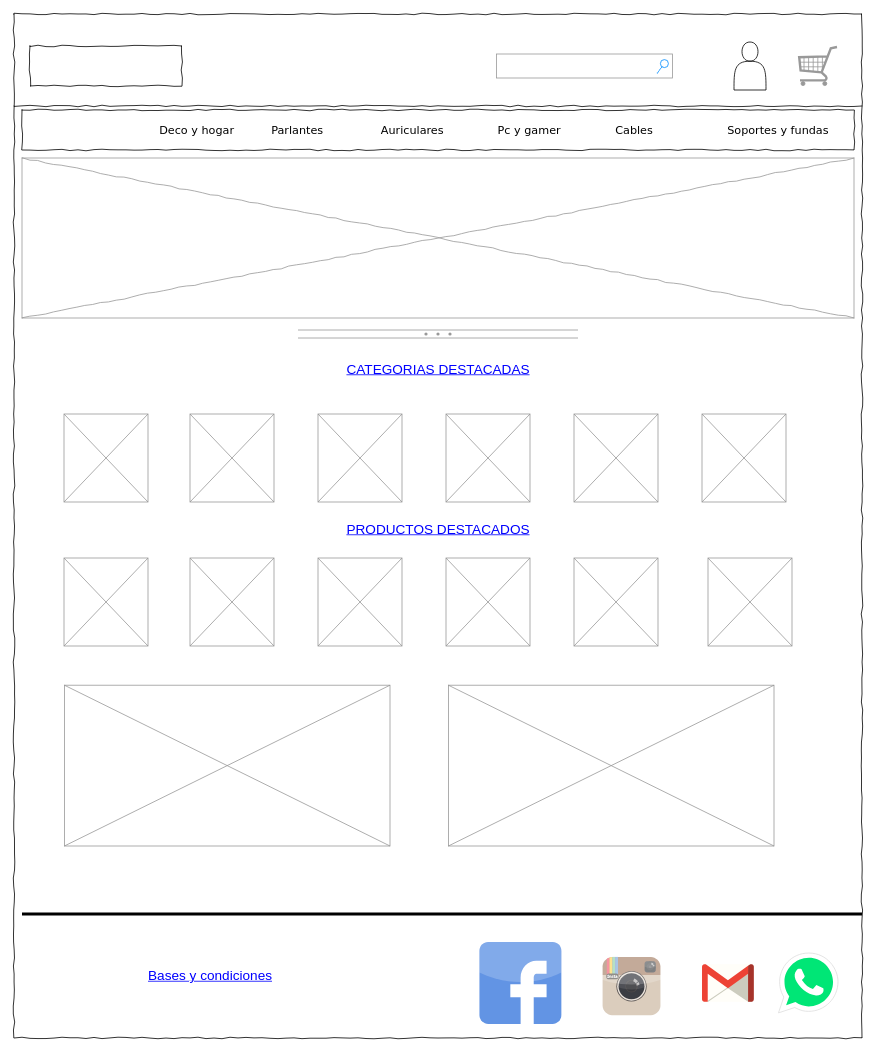
Image size: 878x1052. Some labels were removed from this diagram. The shapes that lost their labels are listed below. From the top down, each one's centre as x and y in pixels, then its label:
(105,65): D&S
(584,65): Buscar
